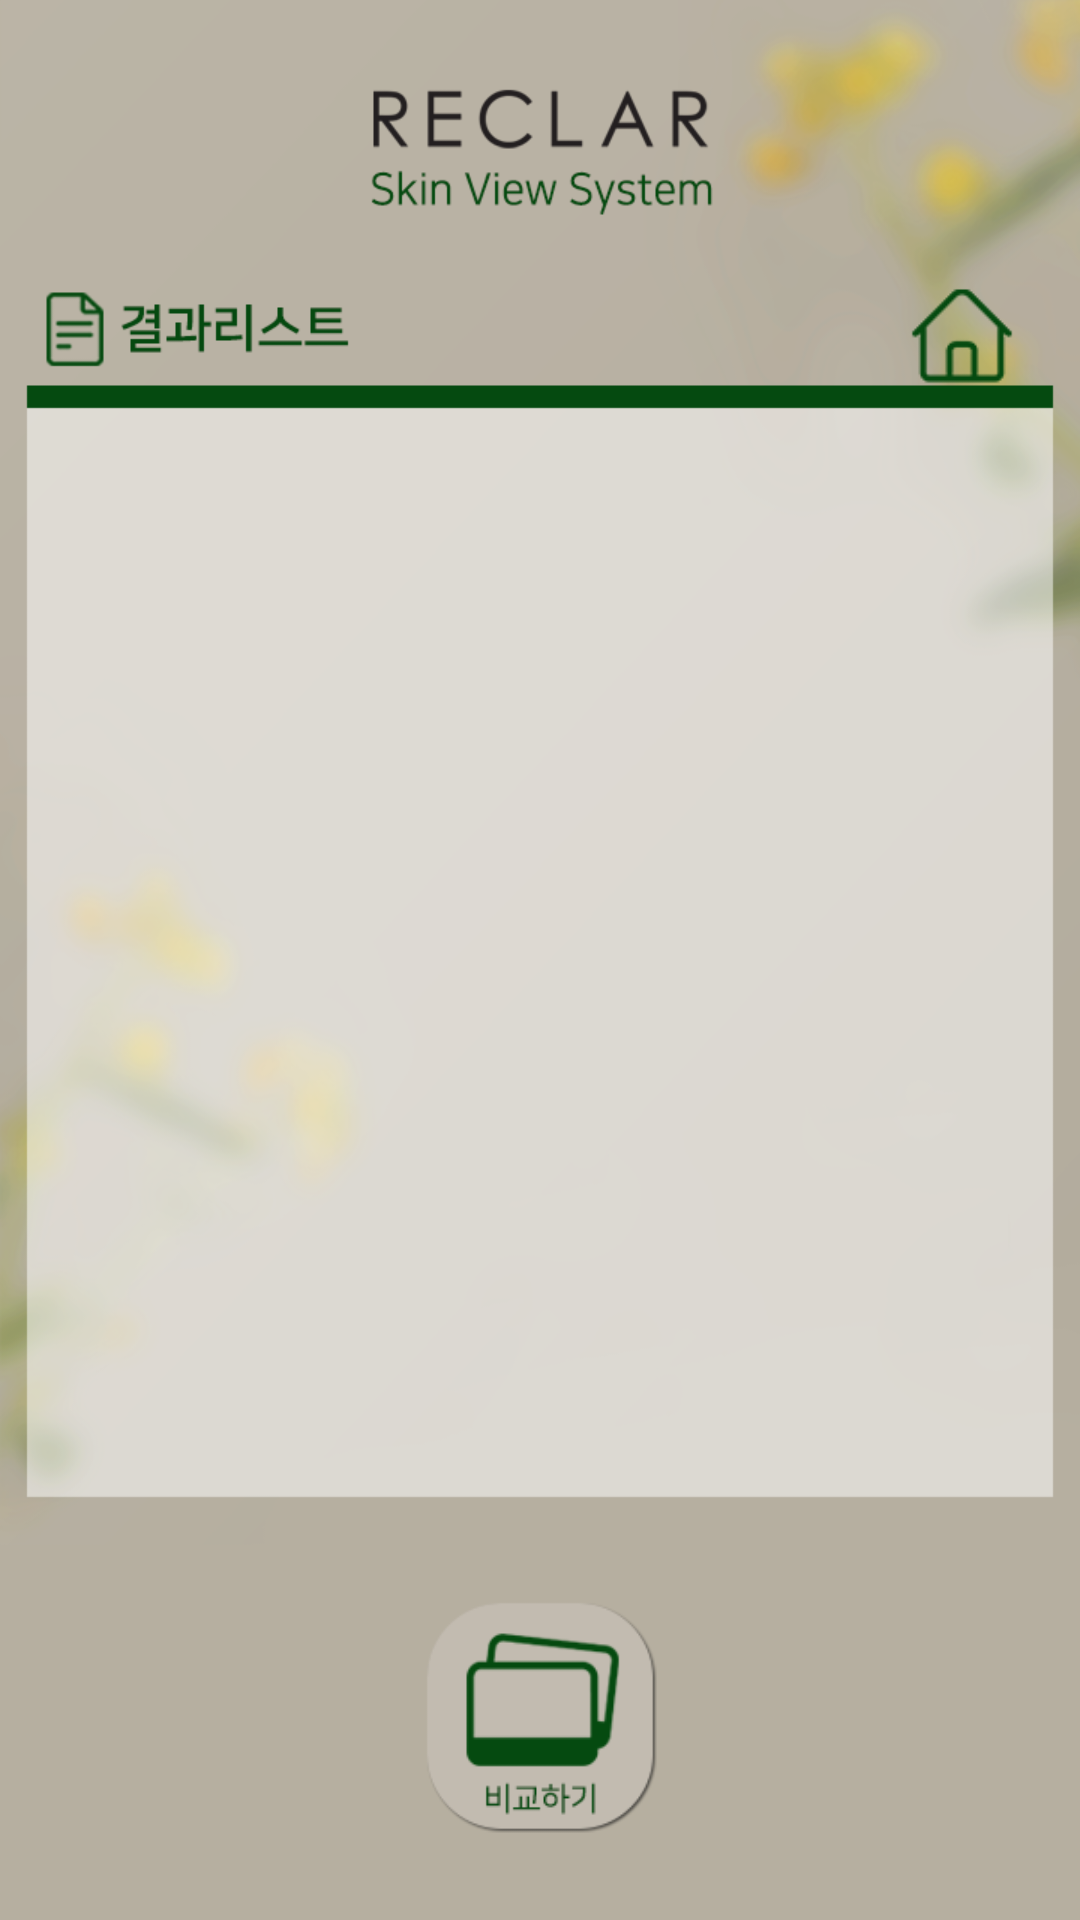

Named icons in this screenshot (1080px×1920px) and their bounding boxes, bbox=[x1, y1, x2, y2]:
home: bbox=[902, 275, 1022, 395]
